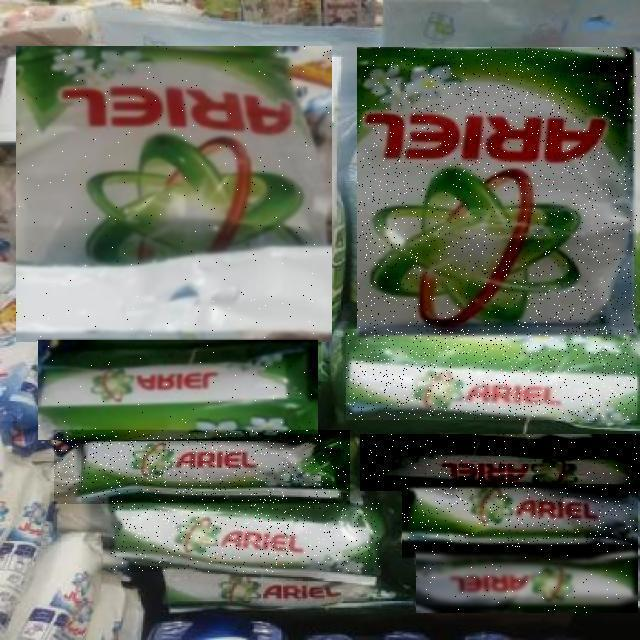Detergent: (17, 47, 333, 343), (358, 48, 638, 336), (359, 51, 636, 337), (39, 340, 319, 440), (346, 329, 637, 420), (55, 430, 351, 504), (110, 503, 382, 572), (402, 486, 638, 560), (360, 434, 640, 491), (417, 547, 639, 613)
